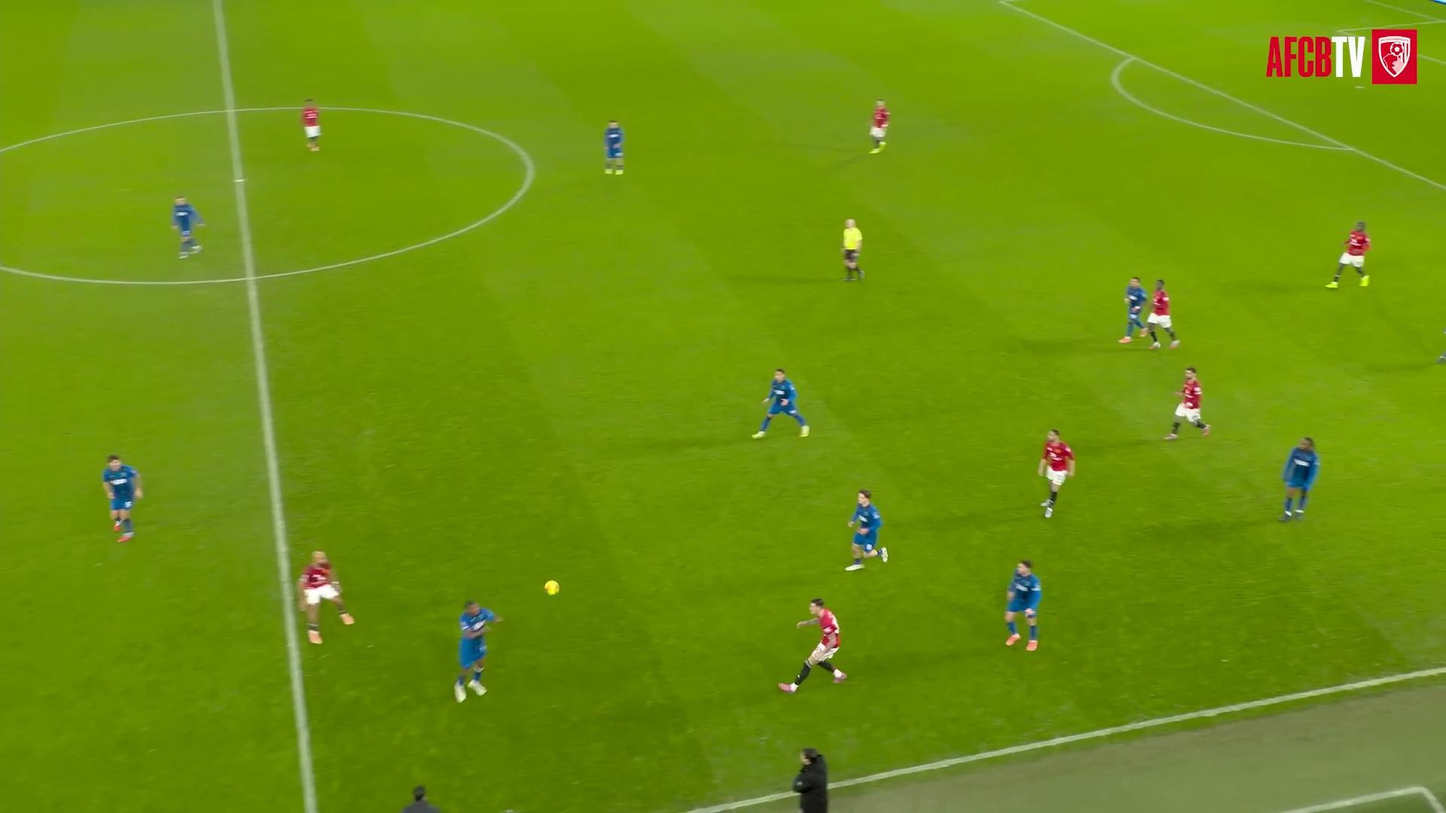football: (538, 573, 574, 605)
player: (778, 598, 846, 693), (297, 551, 353, 644), (454, 601, 501, 702), (752, 368, 810, 438), (845, 489, 888, 571), (102, 455, 142, 541), (1164, 367, 1210, 440), (1280, 437, 1319, 521), (1038, 429, 1075, 517), (1005, 560, 1041, 650), (1326, 221, 1370, 288), (1147, 279, 1179, 349), (172, 196, 203, 258), (1119, 277, 1148, 343), (301, 99, 321, 151), (605, 120, 624, 174), (870, 99, 889, 153), (1437, 352, 1445, 363)
referee: (841, 218, 864, 281)
